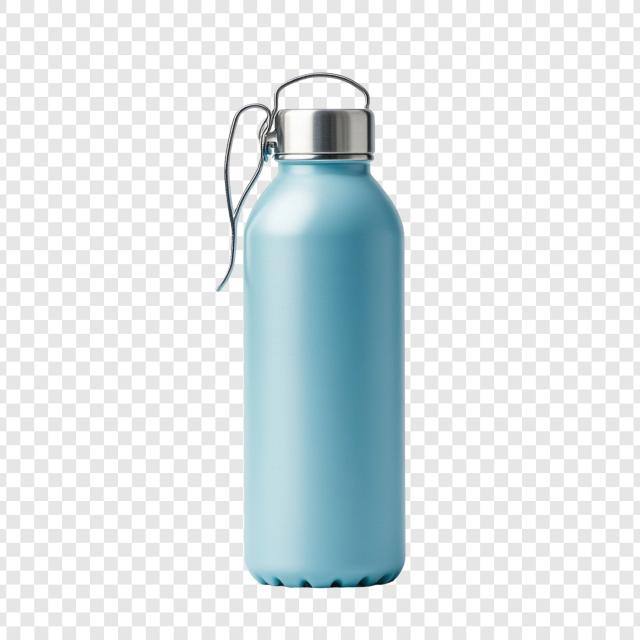blue_bottle: (241, 101, 409, 591)
